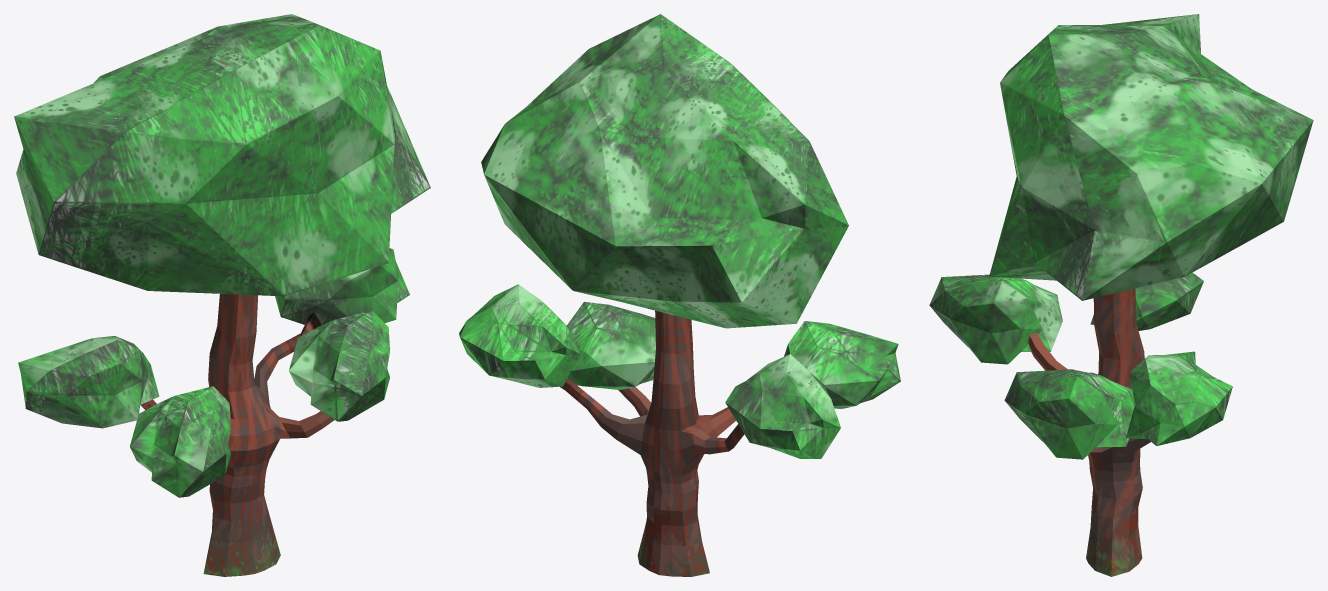
Rendered from ArbolLowPoly.obj.
The picture shows the model from 3 angles, left to right: view 1: azimuth 30°, elevation 25°; view 2: azimuth 150°, elevation 25°; view 3: azimuth 270°, elevation 25°; orthographic projection. The views are drawn at different scales.
Parts seen in each view (by area): view 1: Cube_0_Root; view 2: Cube_0_Root; view 3: Cube_0_Root.
Part boxes in pixels (x1,y1,x2,y2): Cube_0_Root: [14, 14, 430, 576]; Cube_0_Root: [459, 14, 900, 576]; Cube_0_Root: [929, 14, 1313, 576].
Size of the model in its own units: 18.14 by 24.6 by 15.69.
